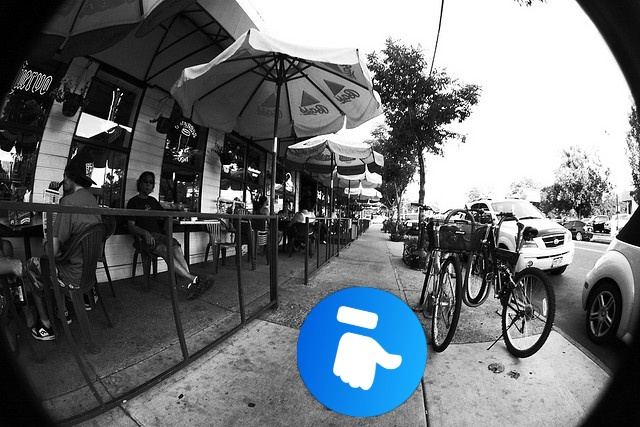like: (297, 287, 427, 417)
